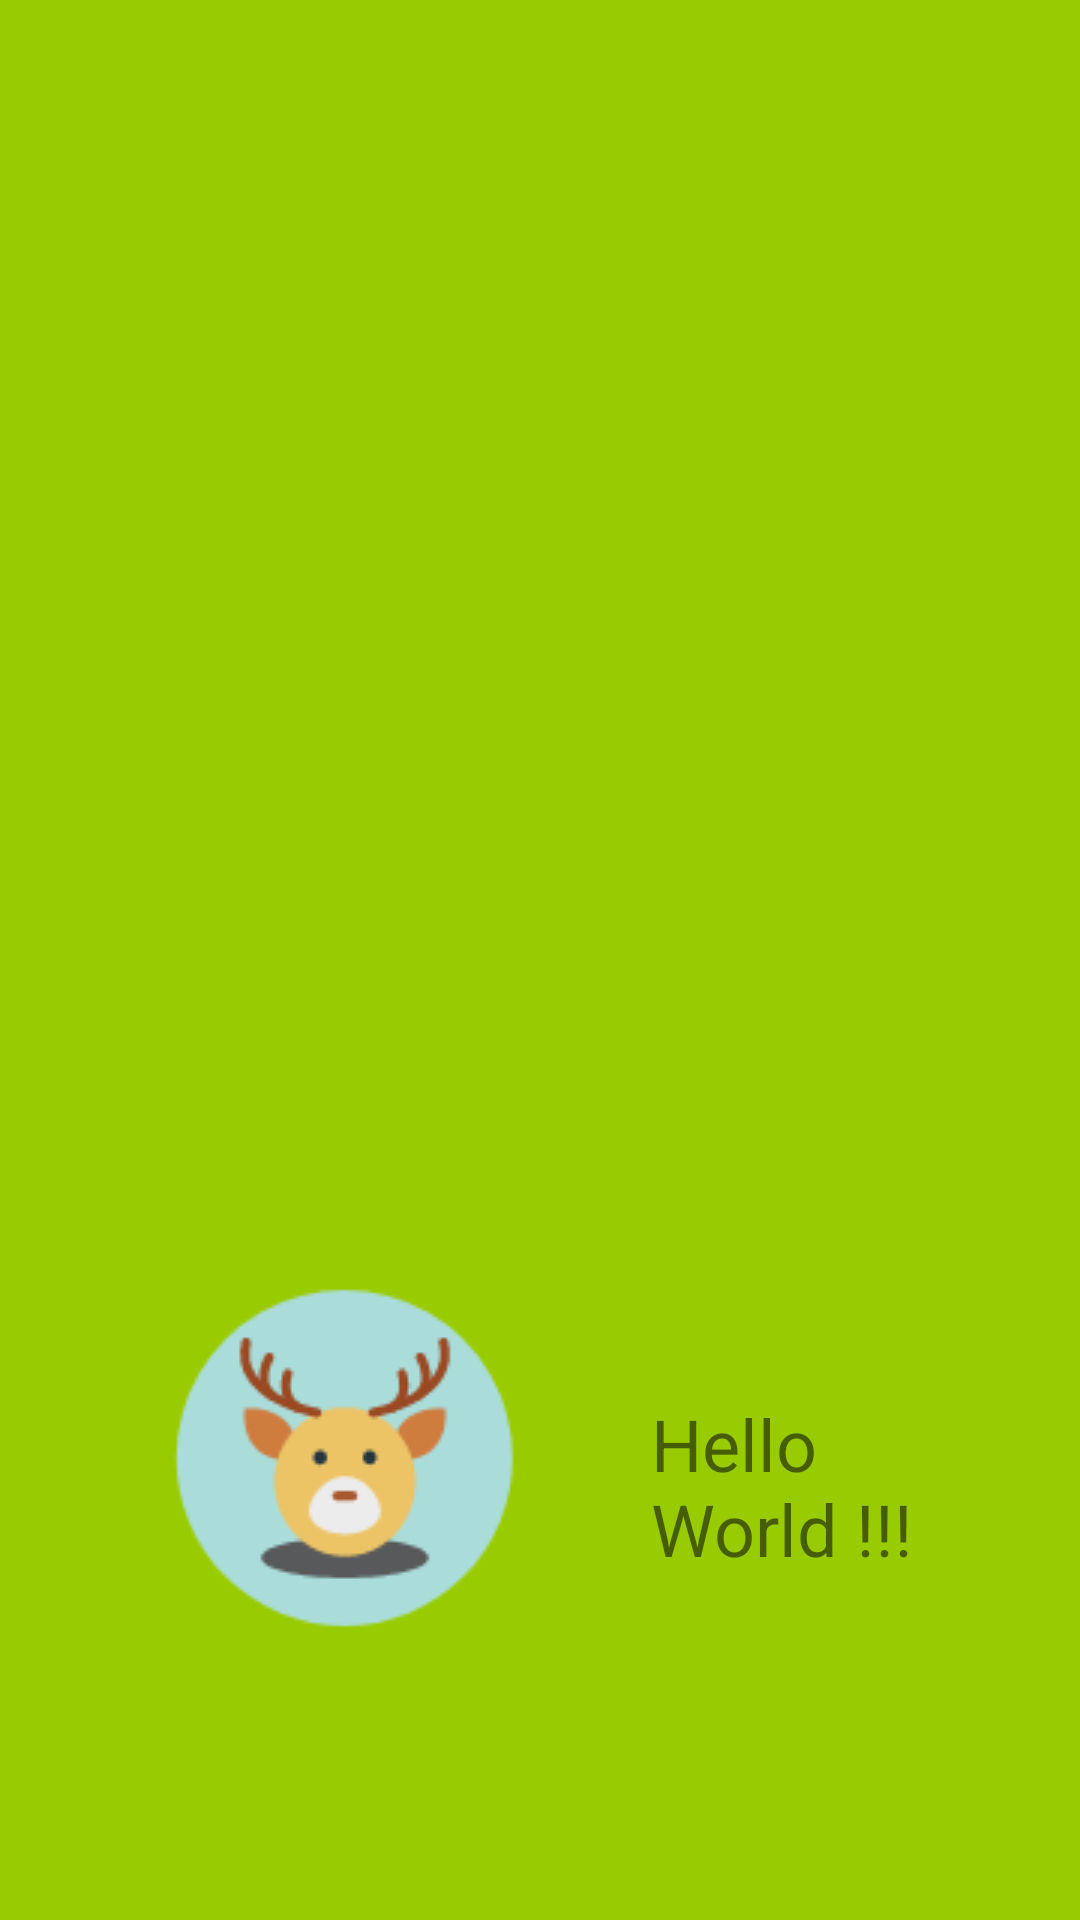

Screen size 1080x1920. Icon name, then its box in pixels as (x1, y1, x2, y2):
xunlu: (175, 1289, 514, 1627)
